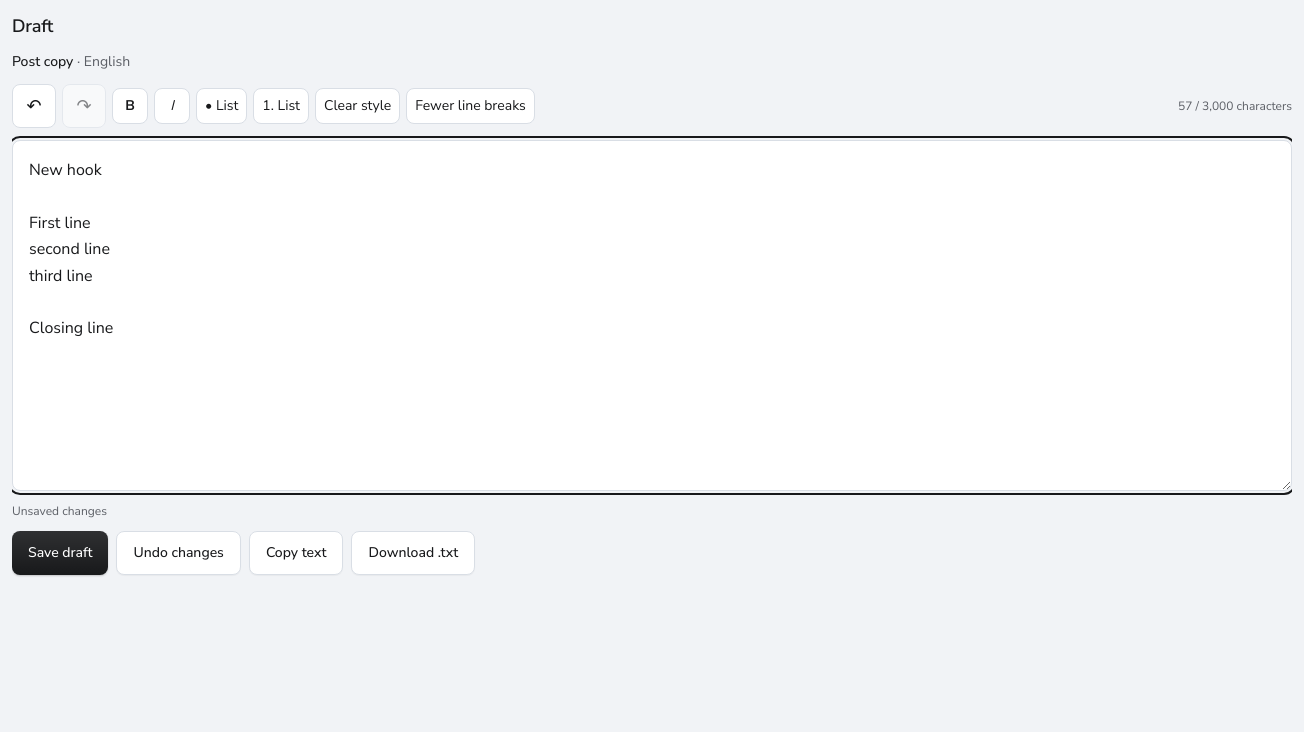
Test case: editor undo and redo history (#242) › saves the text and the chosen hook in one request
Click the button "Save draft": (60, 553) left=12, top=531, right=108, bottom=575
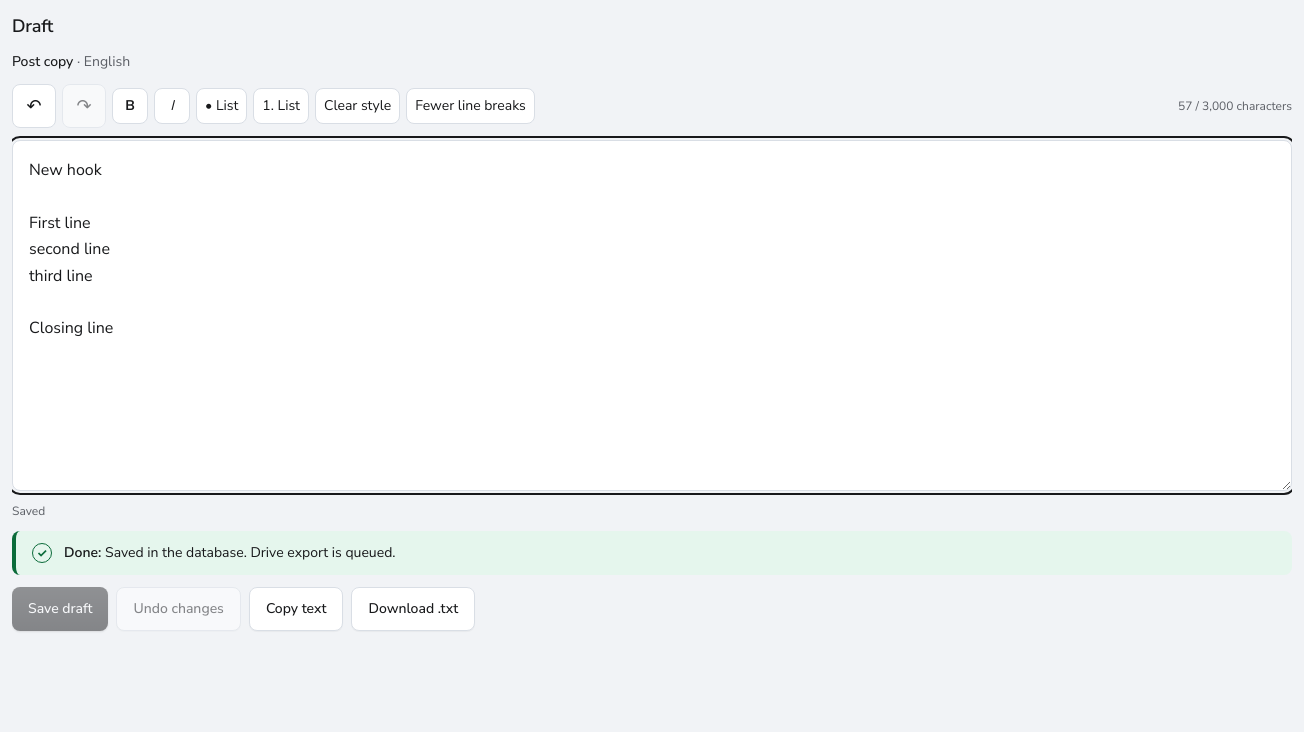
Expected: the button "Save draft" is disabled, left=12, top=587, right=108, bottom=631
